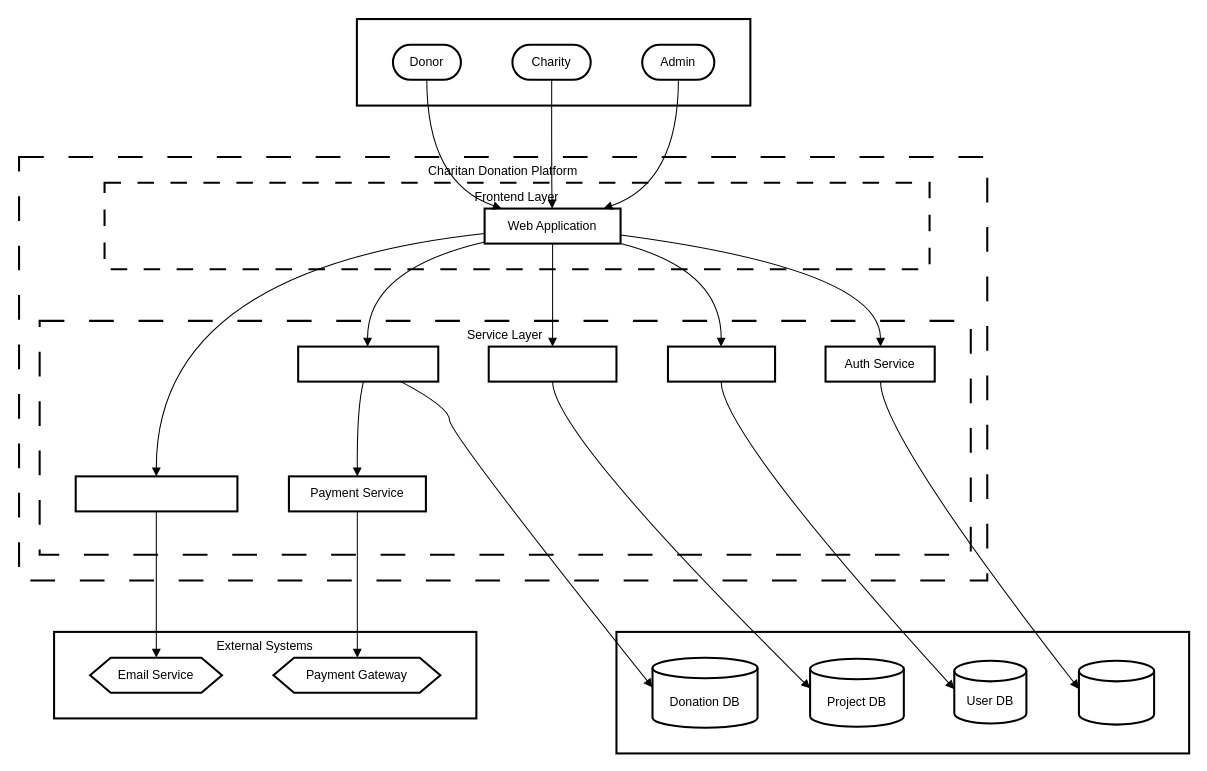
Image size: 1207x771. Some labels were removed from this diagram. The shapes that lost their labels are listed below. From the top down, each one's box as (x1, y1, x2, y2) in pixels, then its label:
(355, 18, 751, 106): External Users
(297, 345, 439, 382): Donation Service
(487, 345, 617, 382): Project Service
(666, 345, 776, 382): User Service
(74, 475, 238, 512): Notification Service
(615, 630, 1190, 754): Data Layer
(1077, 659, 1155, 725): Auth DB
